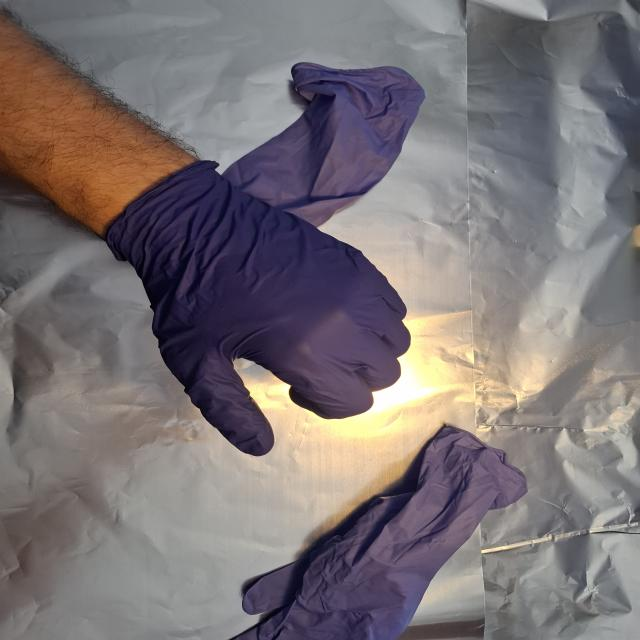glove_on: (98, 154, 414, 459)
